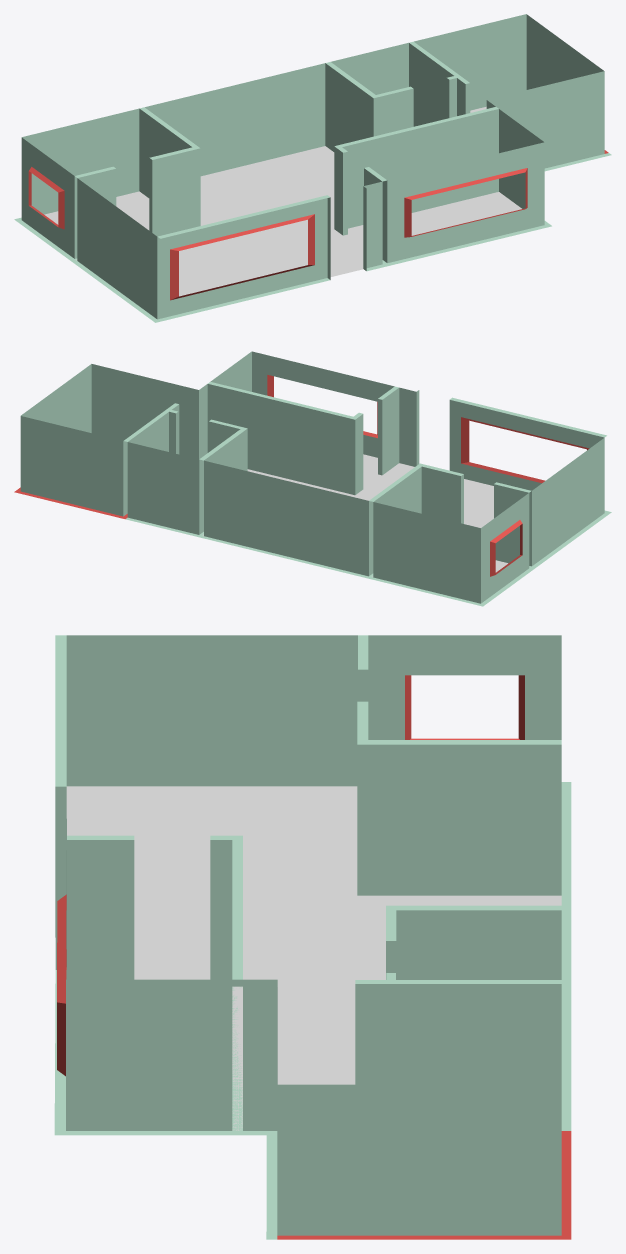
File: Casa P1 1.fbx
3 views of the same model, one above another, from view 1: azimuth 30°, elevation 25°; view 2: azimuth 150°, elevation 25°; view 3: azimuth 270°, elevation 25° (orthographic). The views are drawn at different scales.
Visible parts, largest first — view 1: Plane; view 2: Plane; view 3: Plane.
Boxes of the visible parts, x1,y1,x2,y2 form: Plane: (14, 14, 611, 322); Plane: (14, 351, 611, 606); Plane: (54, 635, 571, 1239).
Size of the model in its own units: 15.05 by 2.32 by 7.18.
